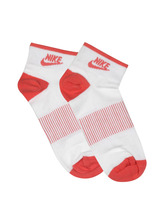sock: (14, 40, 150, 184)
